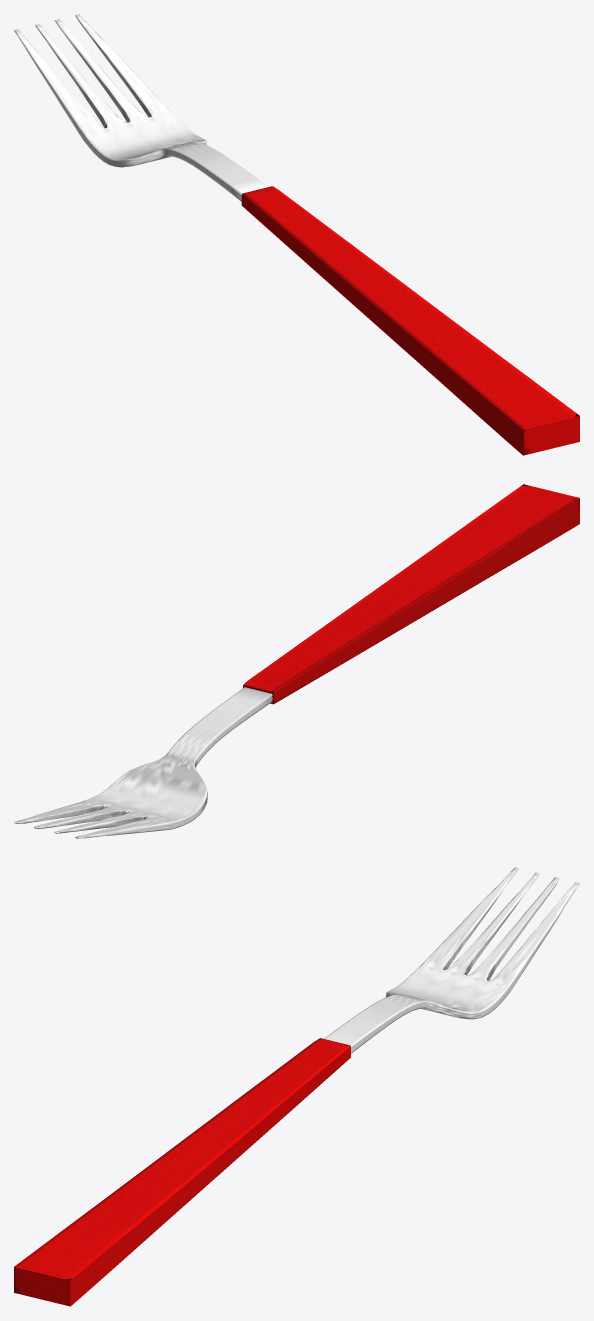
Rendered from fork.dae.
3 views of the same model, one above another, from view 1: azimuth 30°, elevation 25°; view 2: azimuth 150°, elevation 25°; view 3: azimuth 330°, elevation 25° (orthographic).
Parts seen in each view (by area): view 1: 10290_Fork_v2_iterations-2; view 2: 10290_Fork_v2_iterations-2; view 3: 10290_Fork_v2_iterations-2.
Part boxes in pixels (x1,y1,x2,y2): 10290_Fork_v2_iterations-2: [14, 14, 579, 455]; 10290_Fork_v2_iterations-2: [14, 484, 579, 838]; 10290_Fork_v2_iterations-2: [14, 867, 579, 1306].
Size of the model in its own units: 0.0197 by 0.19 by 0.0117.
Materials: 1 (1 with a texture image).
